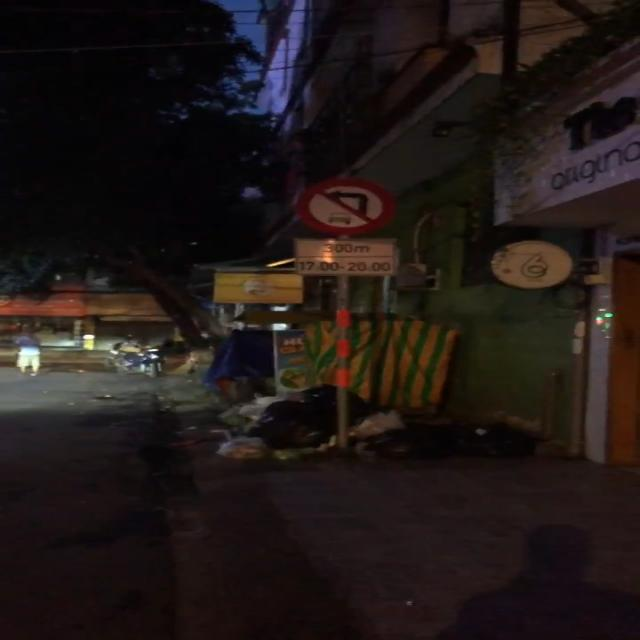Bien bao cam xe o to re trai: (289, 178, 392, 238)
